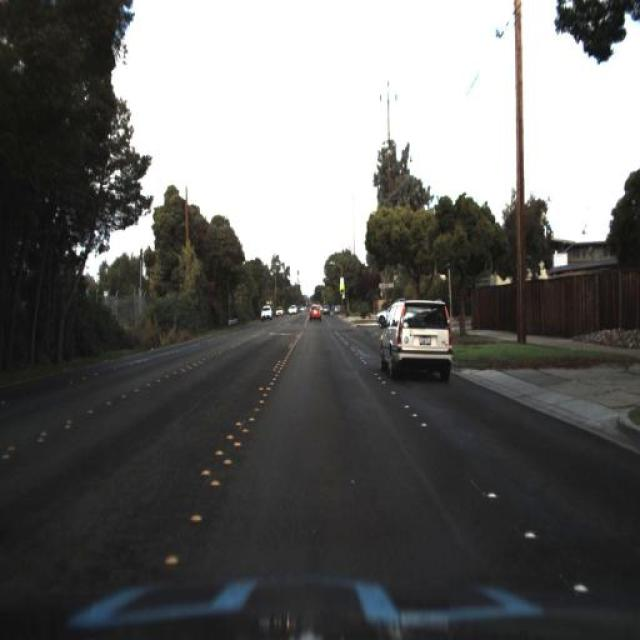car: (376, 297, 454, 388), (308, 300, 324, 322)
